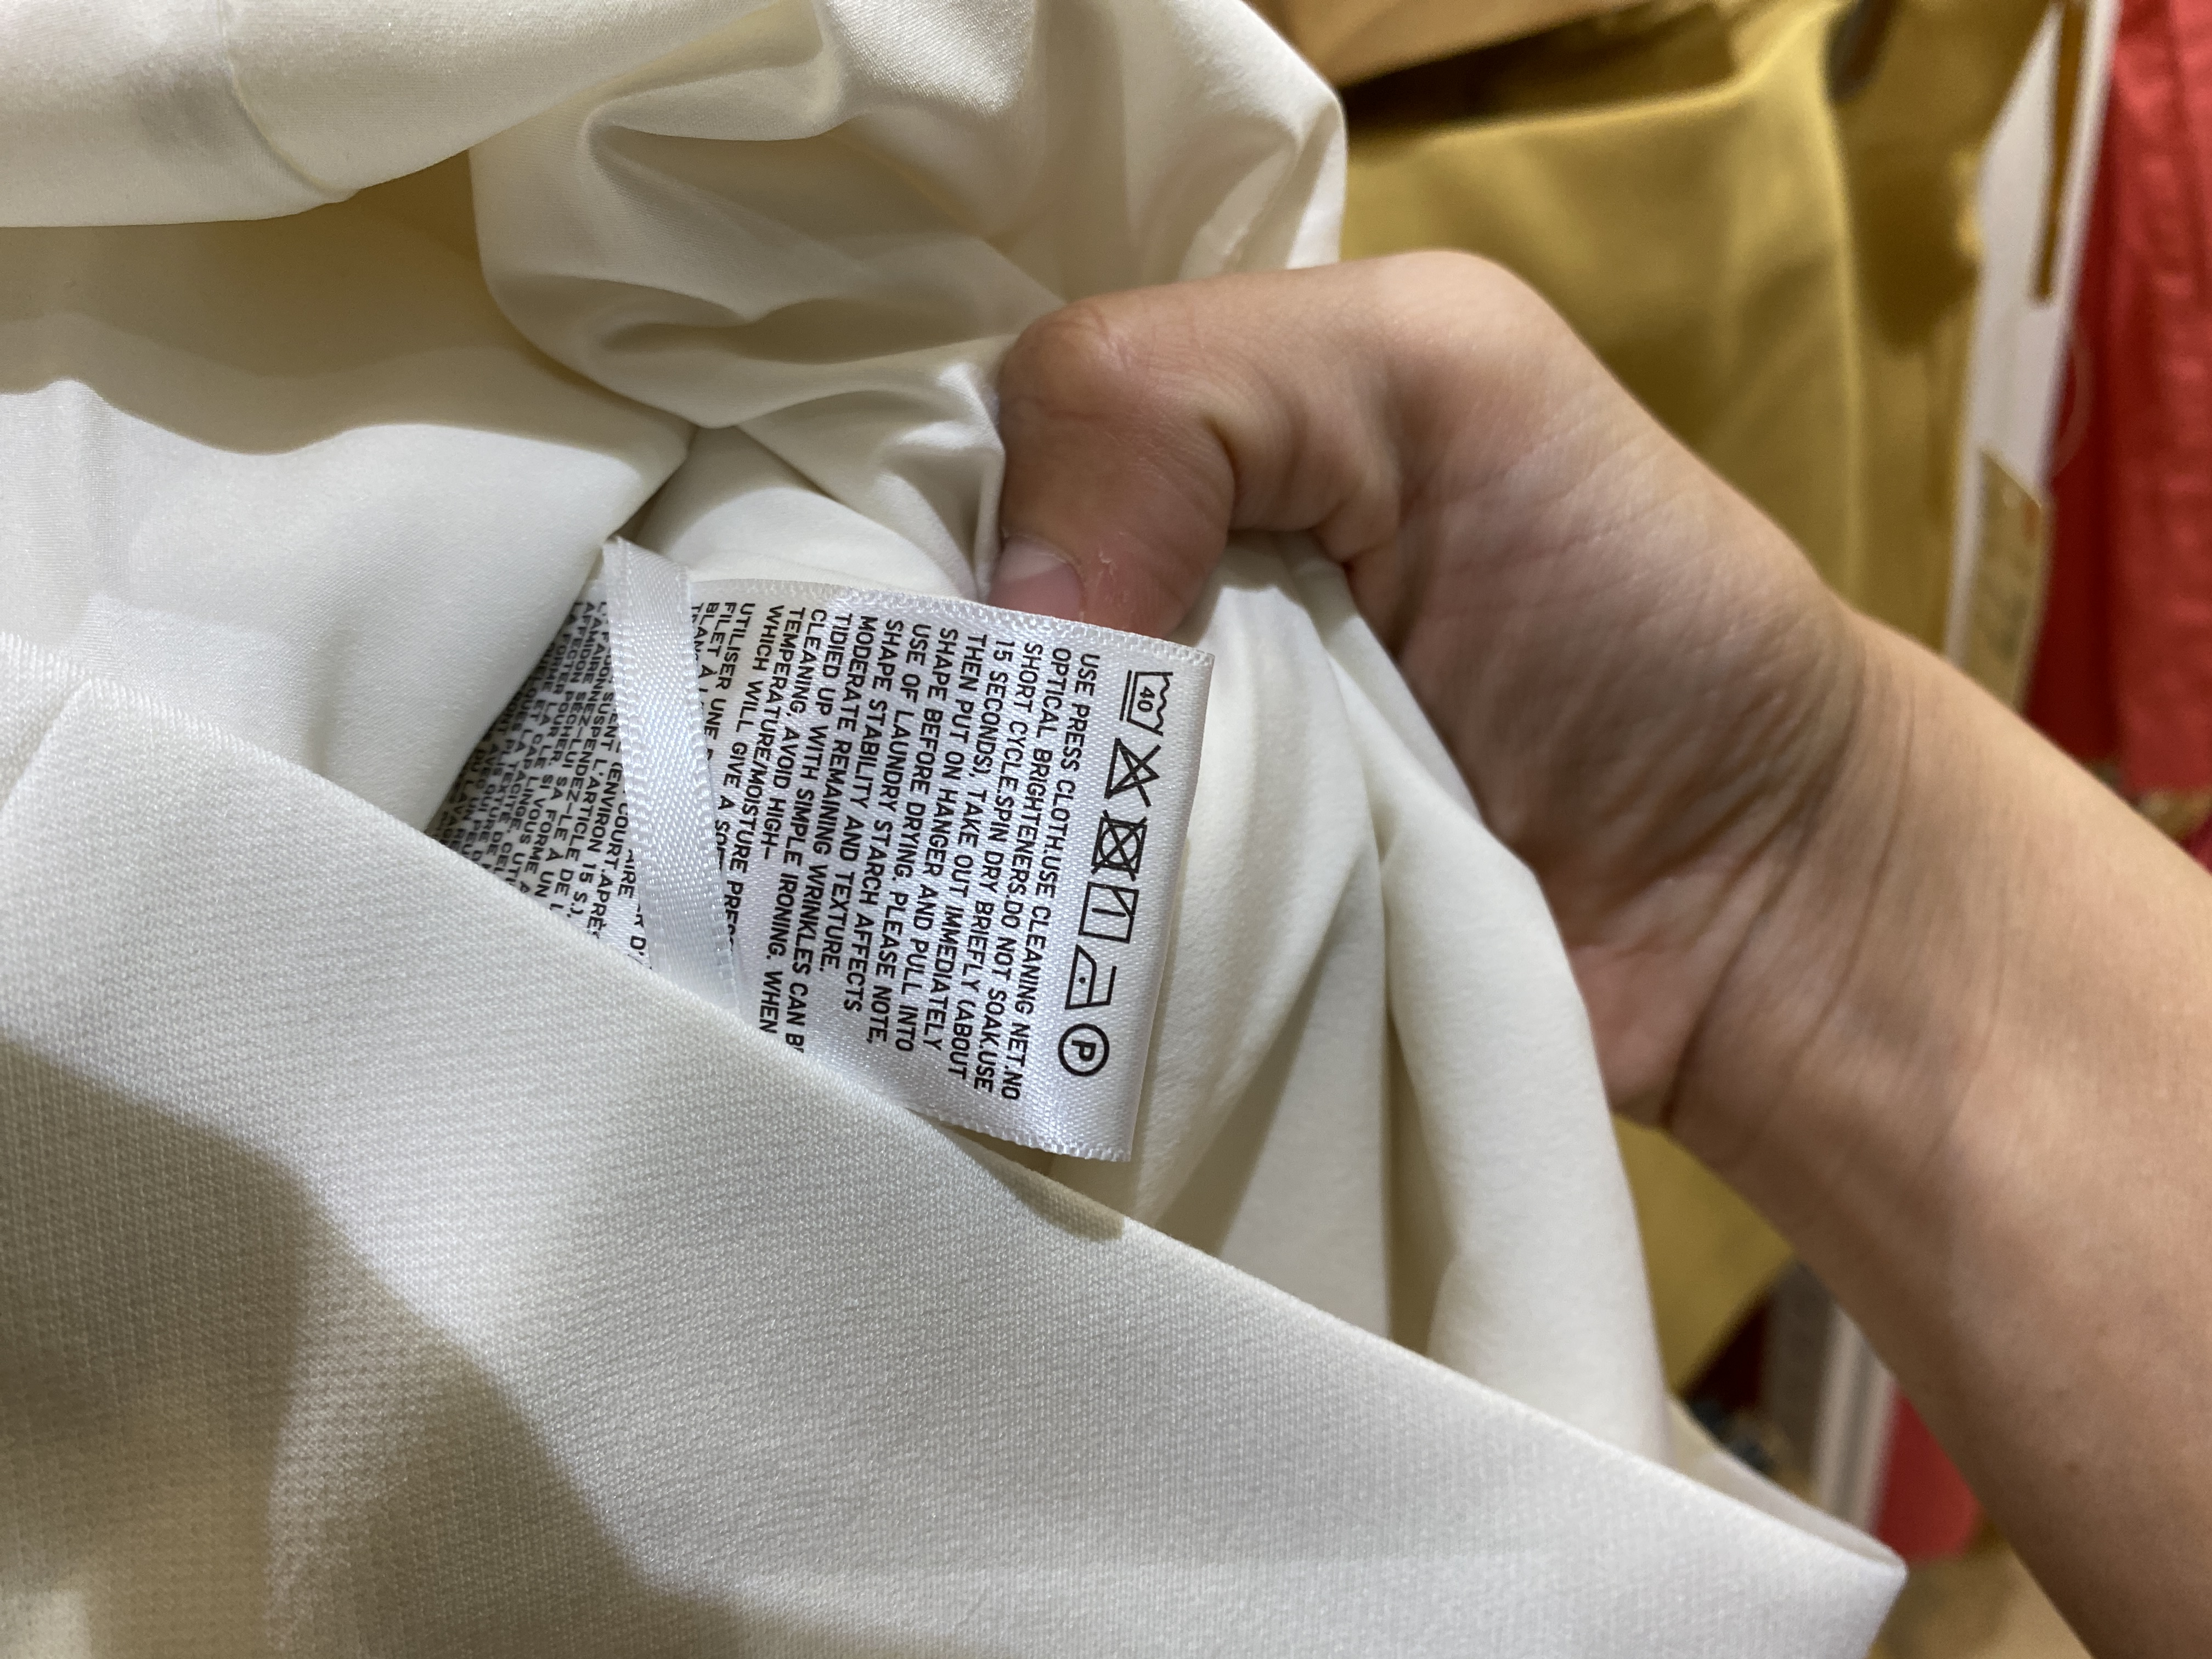icon: (1083, 810, 1151, 880), (1073, 878, 1143, 945), (1047, 1019, 1122, 1080), (1103, 735, 1162, 810), (1059, 946, 1123, 1014), (1118, 664, 1176, 739)
